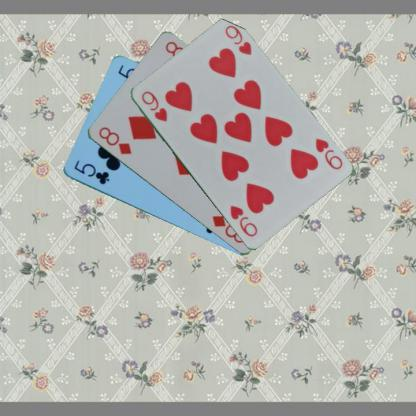5c: (71, 157, 110, 186)
8d: (96, 124, 132, 156)
9h: (312, 135, 344, 171), (138, 88, 169, 123)
